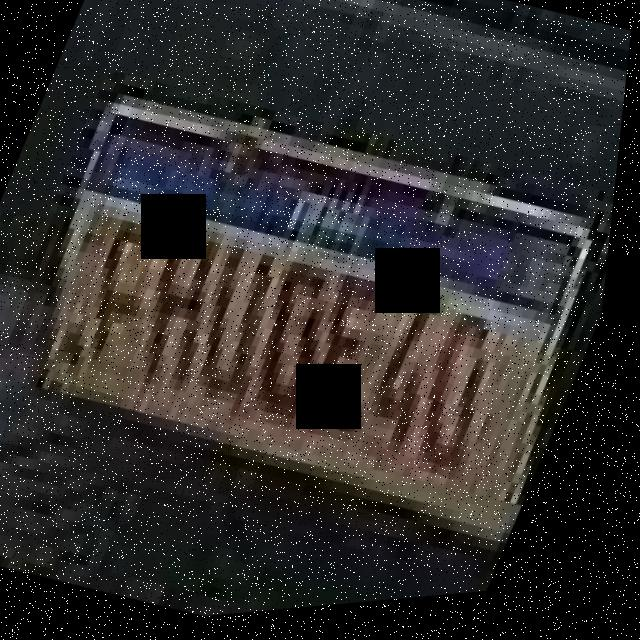0: (399, 304, 532, 499), (237, 250, 363, 440)
4: (351, 286, 472, 478)
E: (295, 270, 414, 455)
F: (61, 200, 189, 394)
H: (113, 212, 255, 415)
U: (177, 232, 312, 425)
